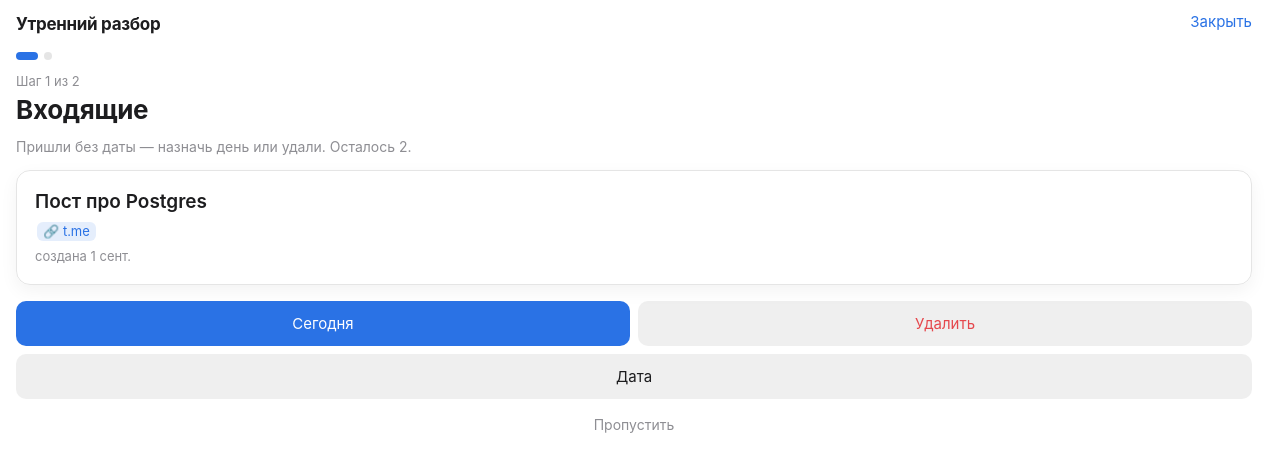
Утренний разбор › входящие по одной с источником
This screenshot has width=1269, height=450.
Expected: the text "Пост про Postgres" is shown, left=35, top=190, right=207, bottom=213
Expected: the link "🔗 t.me" is shown, left=37, top=222, right=96, bottom=241
Click the button "Сегодня".
click(323, 323)  # box left=16, top=300, right=630, bottom=346
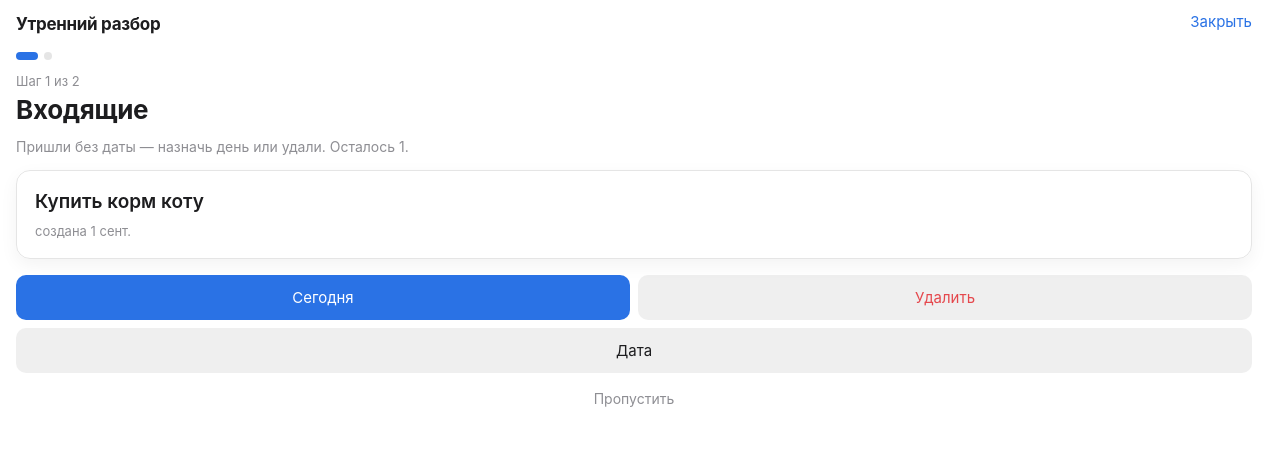
Result: the text "Купить корм коту" is shown at left=35, top=190, right=204, bottom=213
